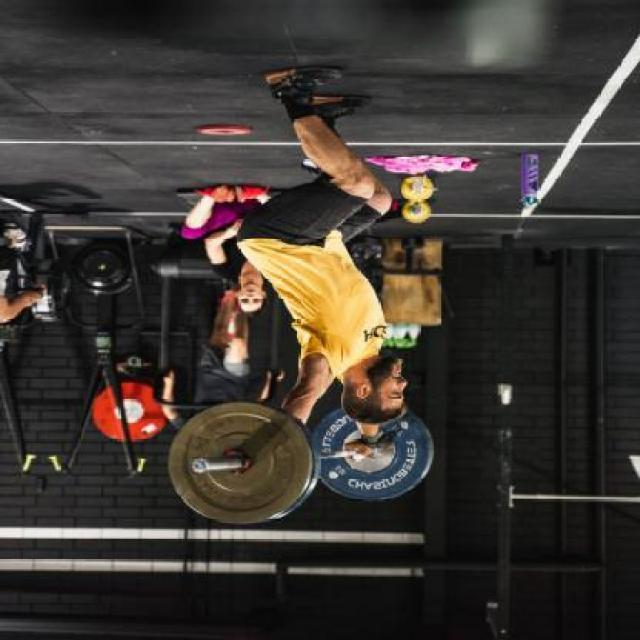Barbell: (186, 457, 212, 477)
